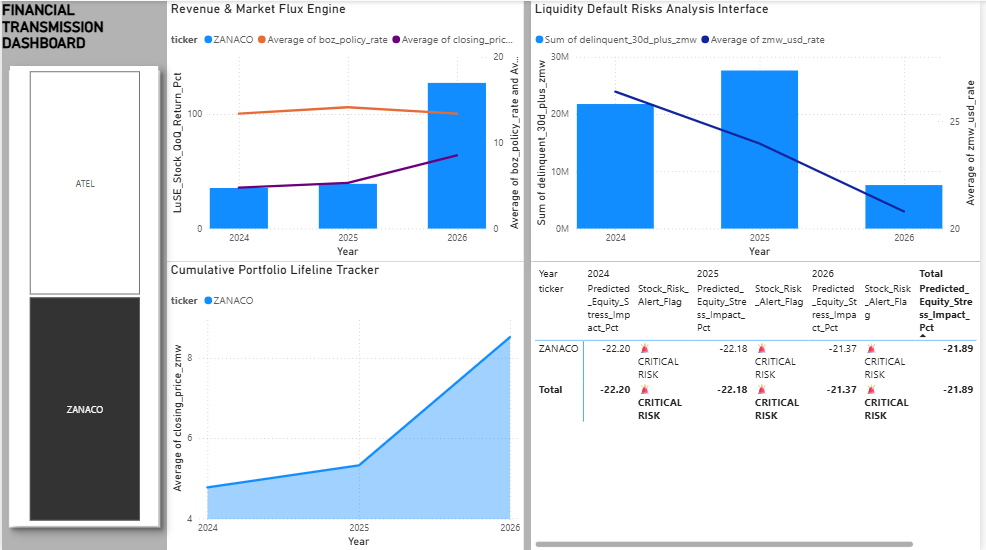

The dashboard page shown, as its layout file describes it:
{"tool":"powerbi","page":{"name":"Page 1","canvas":[1280,720],"ordinal":0},"visuals":[{"type":"shape","title":"FINANCIAL TRANSMISSION DASHBOARD","box":[0,0,216,698],"z":0},{"type":"lineStackedColumnComboChart","title":"Revenue & Market Flux Engine","fields":{"Category":["financial_zambian_data.record_date.Variation.Date Hierarchy.Year","financial_zambian_data.record_date.Variation.Date Hierarchy.Quarter","financial_zambian_data.record_date.Variation.Date Hierarchy.Month","financial_zambian_data.record_date.Variation.Date Hierarchy.Day"],"Y":["financial_zambian_data.LuSE_Stock_QoQ_Return_Pct"],"Y2":["Avg(financial_zambian_data.boz_policy_rate)","Avg(financial_zambian_data.closing_price_zmw)"],"Series":["financial_zambian_data.ticker"]},"box":[216,0,466.6,341.3],"z":1000},{"type":"areaChart","title":"Cumulative Portfolio Lifeline Tracker","fields":{"Category":["financial_zambian_data.record_date.Variation.Date Hierarchy.Year","financial_zambian_data.record_date.Variation.Date Hierarchy.Quarter","financial_zambian_data.record_date.Variation.Date Hierarchy.Month","financial_zambian_data.record_date.Variation.Date Hierarchy.Day"],"Y":["Avg(financial_zambian_data.closing_price_zmw)"],"Series":["financial_zambian_data.ticker"]},"box":[216,341.3,467,379],"z":2000},{"type":"lineStackedColumnComboChart","title":"Liquidity Default Risks Analysis Interface","fields":{"Category":["financial_zambian_data.record_date.Variation.Date Hierarchy.Year","financial_zambian_data.record_date.Variation.Date Hierarchy.Quarter","financial_zambian_data.record_date.Variation.Date Hierarchy.Month","financial_zambian_data.record_date.Variation.Date Hierarchy.Day"],"Y":["Sum(financial_zambian_data.delinquent_30d_plus_zmw)"],"Y2":["Avg(financial_zambian_data.zmw_usd_rate)"]},"box":[692.6,0,587.5,341.3],"z":3000},{"type":"pivotTable","fields":{"Rows":["financial_zambian_data.ticker"],"Columns":["financial_zambian_data.record_date.Variation.Date Hierarchy.Year","financial_zambian_data.record_date.Variation.Date Hierarchy.Quarter","financial_zambian_data.record_date.Variation.Date Hierarchy.Month","financial_zambian_data.record_date.Variation.Date Hierarchy.Day"],"Values":["financial_zambian_data.Predicted_Equity_Stress_Impact_Pct","financial_zambian_data.Stock_Risk_Alert_Flag"]},"box":[692.6,341.3,587.5,378.7],"z":4000},{"type":"slicer","fields":{"Values":["financial_zambian_data.ticker"]},"box":[10.1,85,194.4,601.9],"z":5000}]}

Visuals, with their boxes in screenshot pixels (x1, y1, x2, y2), scaled from the page's 1280x720 canvas onto the 986x550 screenshot:
"FINANCIAL TRANSMISSION DASHBOARD" shape: (left=0, top=0, right=166, bottom=533)
"Revenue & Market Flux Engine" lineStackedColumnComboChart: (left=166, top=0, right=526, bottom=261)
"Cumulative Portfolio Lifeline Tracker" areaChart: (left=166, top=261, right=526, bottom=549)
"Liquidity Default Risks Analysis Interface" lineStackedColumnComboChart: (left=534, top=0, right=985, bottom=261)
pivotTable - financial_zambian_data.ticker x financial_zambian_data.record_date.Variation.Date Hierarchy.Year: (left=534, top=261, right=985, bottom=549)
slicer - financial_zambian_data.ticker: (left=8, top=65, right=158, bottom=525)
